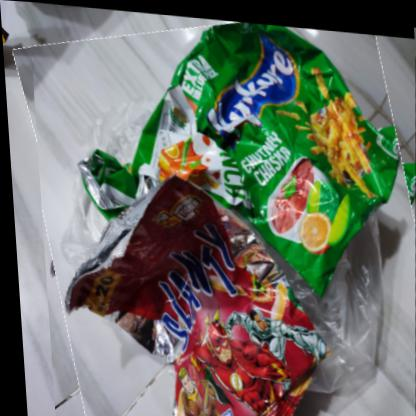Garbage: (29, 2, 416, 416)
